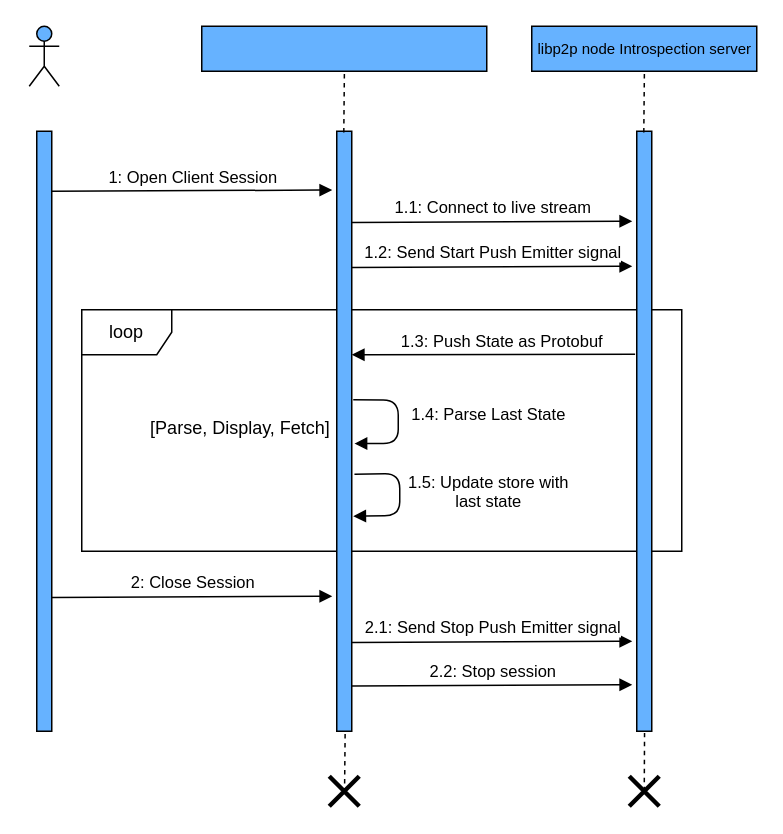
Image size: 783x834. Some labels were removed from this diagram. The shapes that lost their labels are listed below. From the top down, each one's centre as x and y in pixels, then its label:
At (43,55): "User".
At (343,48): "Client (Dashboard or CLI datadump tool)".
